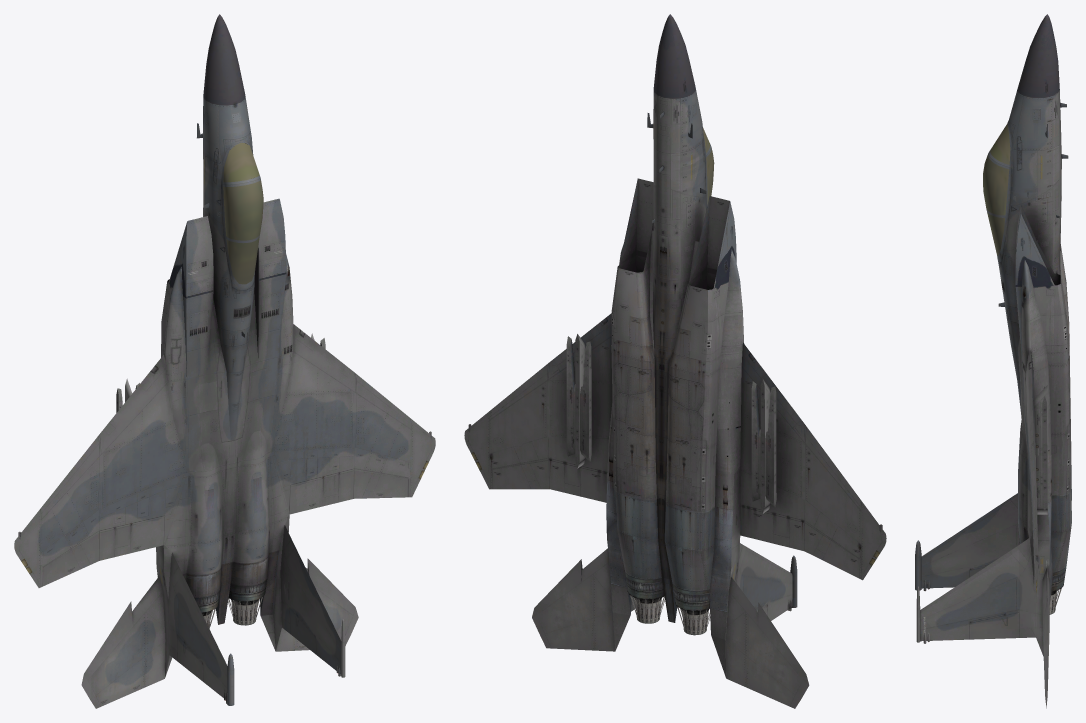
Rendered from RF-15_PeakEagle.obj.
The picture shows the model from 3 angles, left to right: view 1: azimuth 30°, elevation 25°; view 2: azimuth 150°, elevation 25°; view 3: azimuth 270°, elevation 25°; orthographic projection. The views are drawn at different scales.
Visible parts, largest first — view 1: LOD0, ElevatorL01, Glass_Canopy01, BrakeL01, IntakeL01, ElevatorR01, IntakeR01, FlapL01, FlapR01, AileronL01, AileronR01, Glass01 (+4 smaller); view 2: LOD0, ElevatorL01, ElevatorR01, IntakeL01, FlapL01, IntakeR01, FlapR01, AileronR01, AileronL01, EngineR01, EngineL01; view 3: LOD0, RudderR01, IntakeR01, Glass_Canopy01, ElevatorR01, RudderL01, BrakeL01, Canopy01, Glass01.
Part boxes in pixels (x1,y1,x2,y2): LOD0: (14, 14, 435, 705); ElevatorL01: (81, 577, 165, 708); Glass_Canopy01: (223, 180, 263, 284); BrakeL01: (217, 332, 250, 441); IntakeL01: (169, 216, 213, 297); ElevatorR01: (276, 558, 358, 651); IntakeR01: (255, 198, 286, 280); FlapL01: (99, 517, 164, 560); FlapR01: (289, 470, 354, 514); AileronL01: (42, 532, 99, 586); AileronR01: (354, 470, 408, 498); Glass01: (223, 143, 259, 182); LOD0: (464, 14, 886, 677); ElevatorL01: (725, 577, 809, 708); ElevatorR01: (532, 548, 615, 651); IntakeL01: (689, 196, 736, 287); FlapL01: (740, 505, 804, 551); IntakeR01: (619, 178, 653, 270); FlapR01: (549, 459, 607, 502); AileronR01: (492, 459, 549, 489); AileronL01: (804, 521, 858, 578); EngineR01: (627, 591, 664, 623); EngineL01: (675, 602, 710, 635); LOD0: (915, 14, 1071, 656); RudderR01: (931, 609, 1018, 640); IntakeR01: (1015, 204, 1054, 286); Glass_Canopy01: (983, 155, 1009, 255); ElevatorR01: (1042, 568, 1049, 708); RudderL01: (931, 562, 992, 588); BrakeL01: (1006, 309, 1023, 416); Canopy01: (986, 152, 1012, 265); Glass01: (990, 123, 1010, 164).
Size of the model in its own units: 12.93 by 19.47 by 4.35.
Materials: 4 (4 with a texture image).
